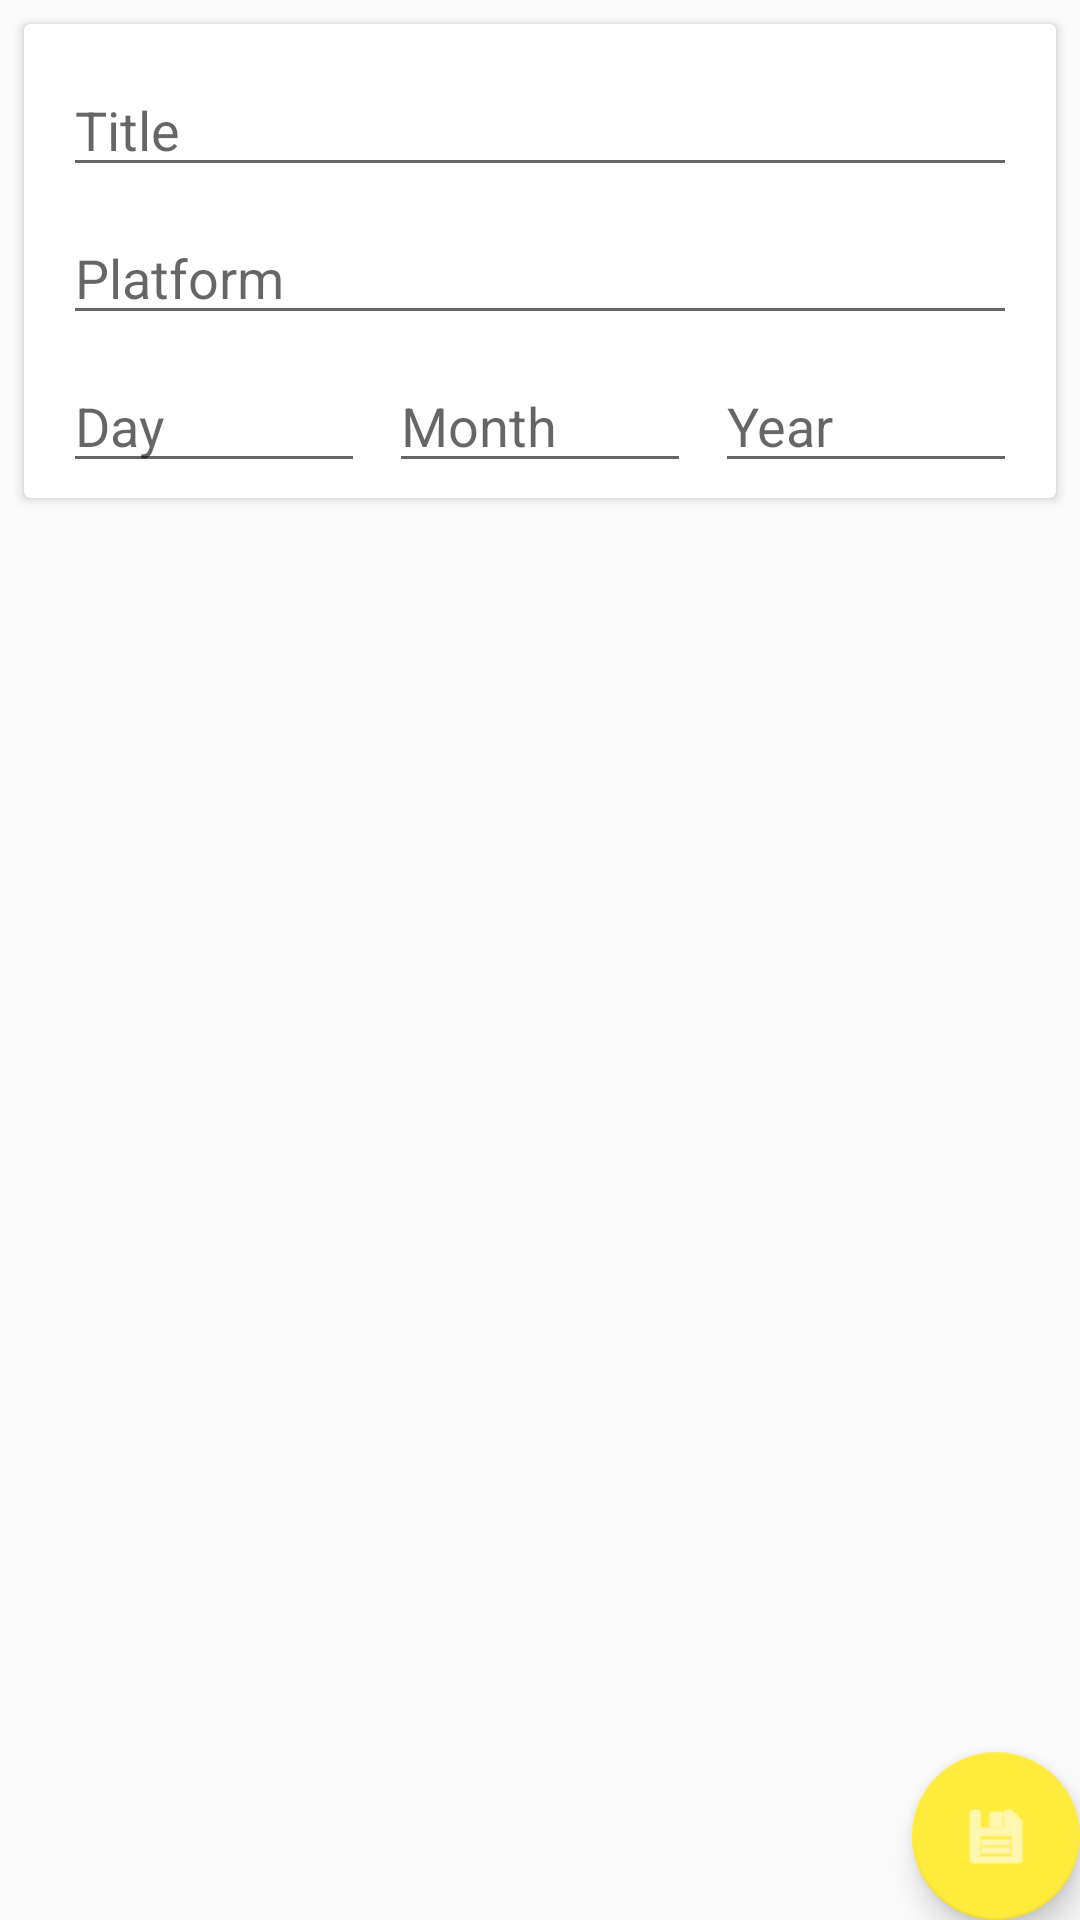

Icon bounding boxes for this 1080 × 1920 phone screenshot, format [x1=x1, y1=y1, x2=x2, y2=y2]:
save: [x1=912, y1=1752, x2=1080, y2=1920]
